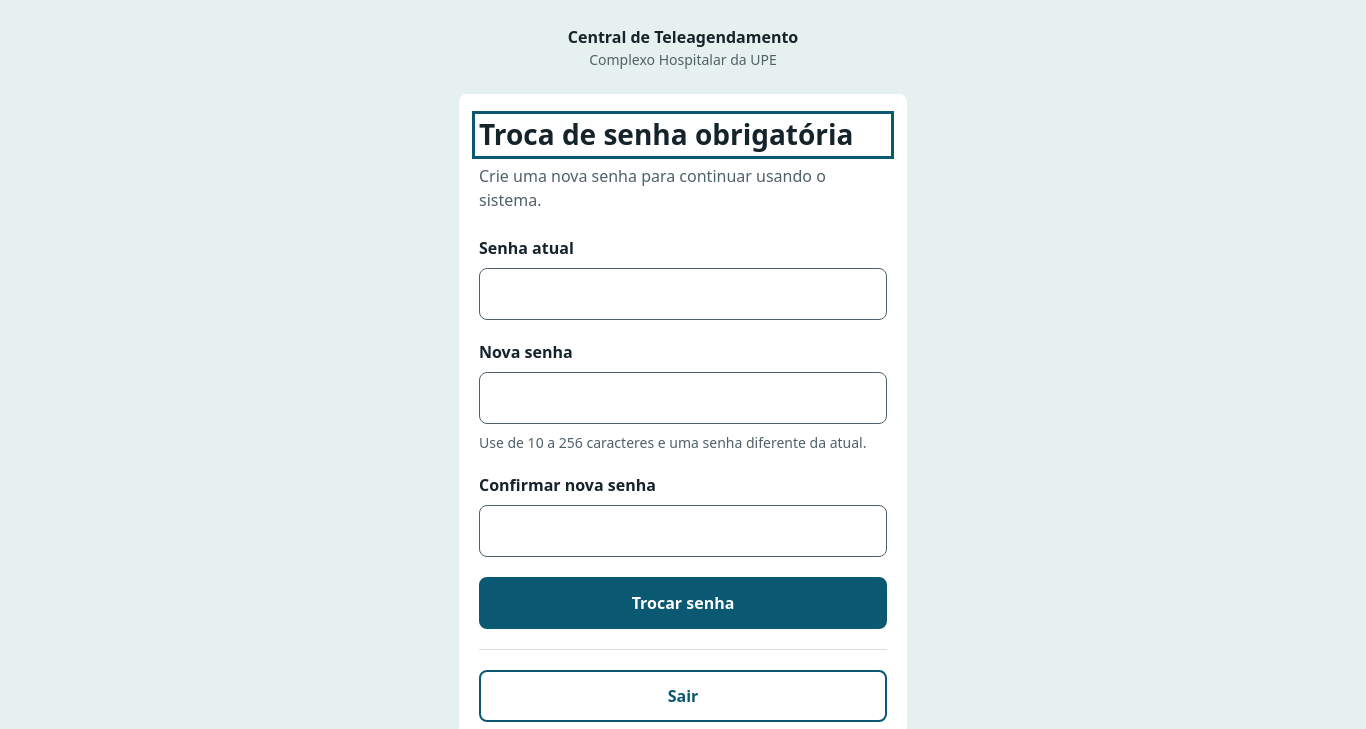
Scenario: RN-022/UC-010 — Trocar senha › reconcilia /me e libera PACIENTE só depois do 204
In the password field labelled "Senha atual": (683, 294) x1=479 y1=268 x2=887 y2=320, type "Atual sintética"
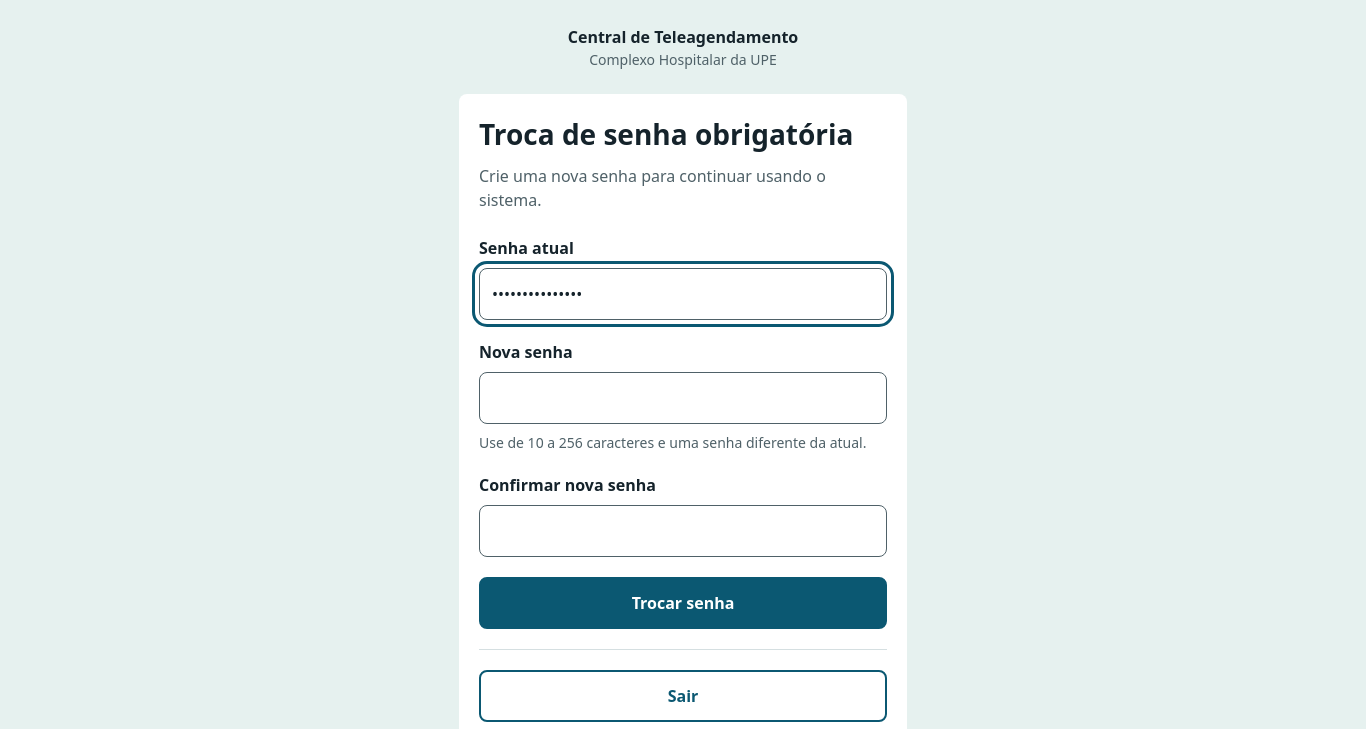
In the password field labelled "Nova senha": (683, 398) x1=479 y1=372 x2=887 y2=424, type "Nova sintética"
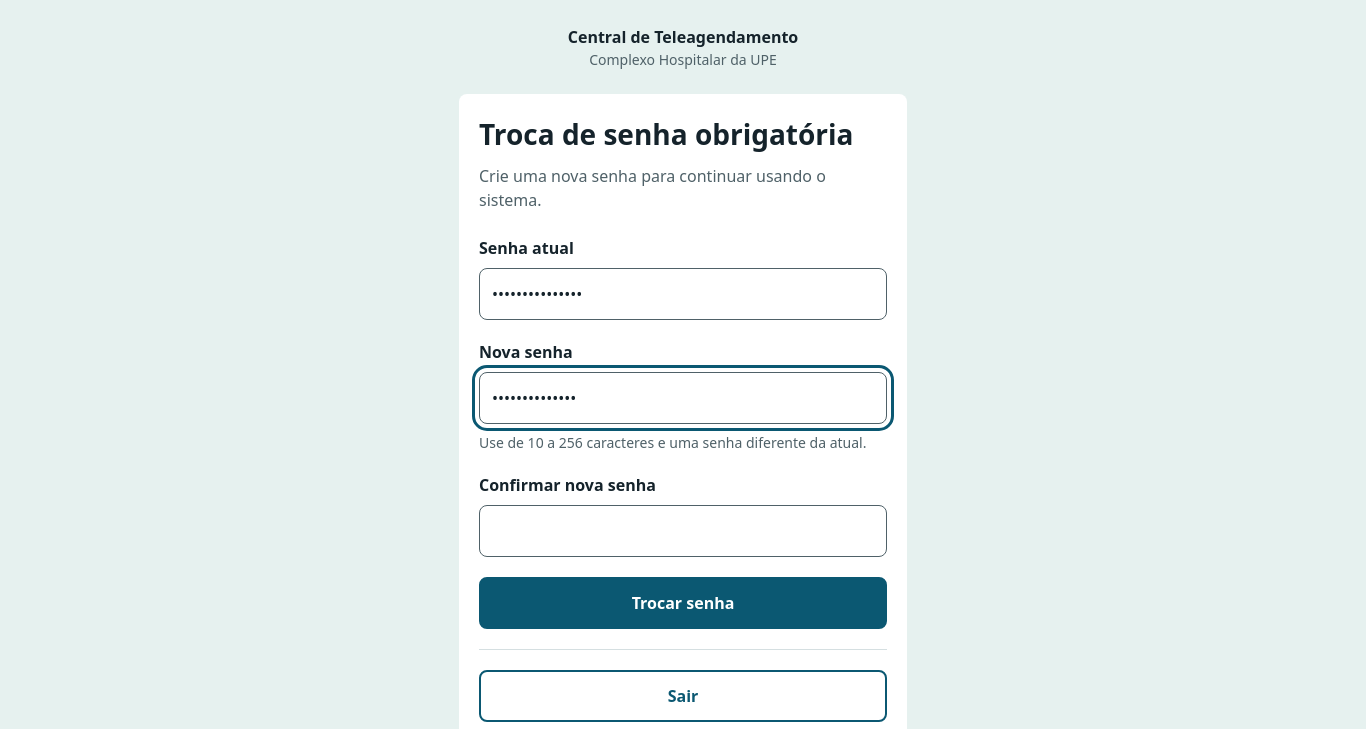
In the password field labelled "Confirmar nova senha": (683, 531) x1=479 y1=505 x2=887 y2=557, type "Nova sintética"
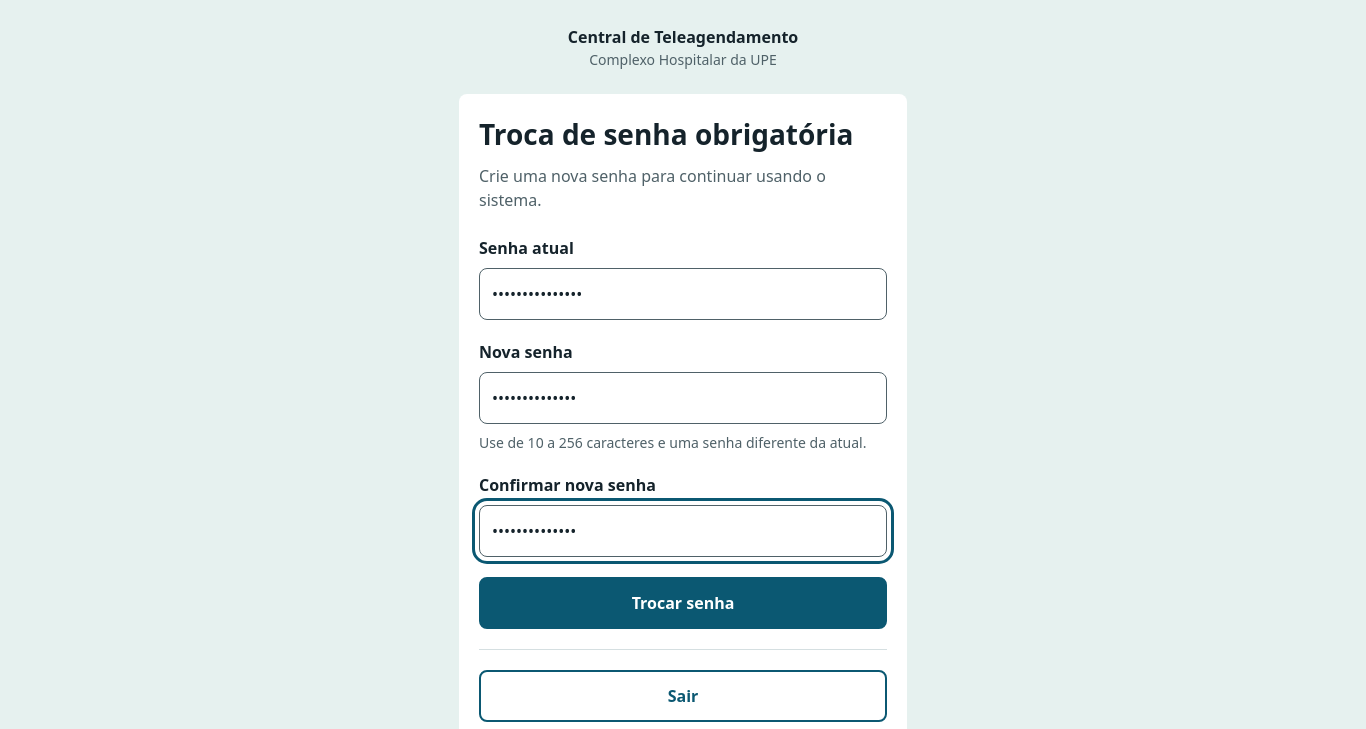
Click the button "Trocar senha": (683, 603) x1=479 y1=577 x2=887 y2=629
(page scrolled)
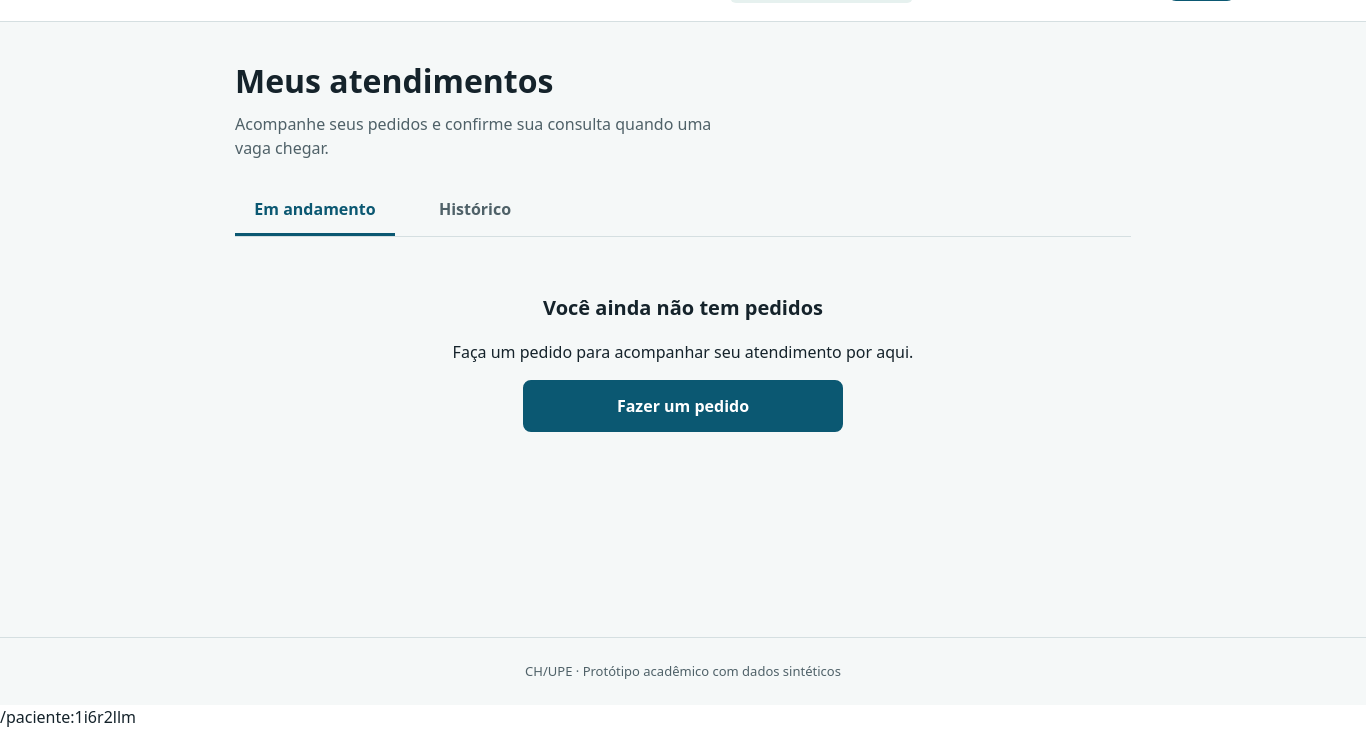
expect the text with test id "rota" shows "/paciente:": met, box x1=0 y1=706 x2=136 y2=728
